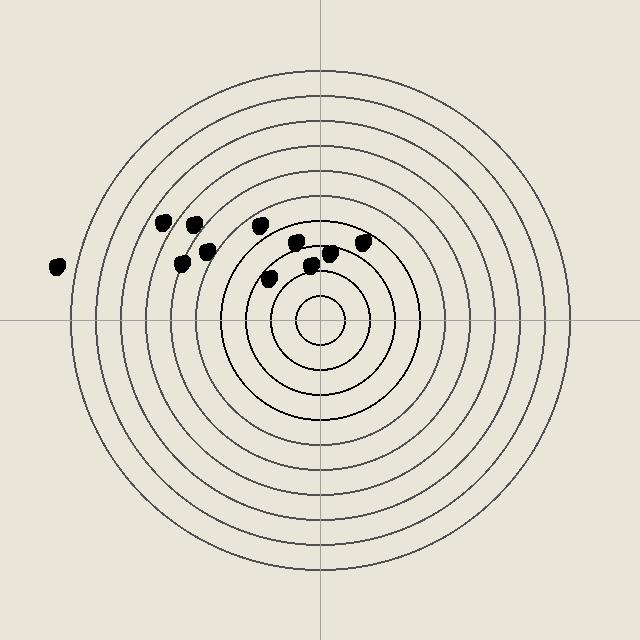horizontal_scatter: (300, 255, 320, 275), (352, 232, 372, 252), (319, 243, 339, 263), (249, 215, 269, 235), (258, 268, 278, 288), (183, 214, 203, 234), (171, 253, 191, 273), (196, 241, 216, 261), (46, 256, 66, 276), (285, 232, 305, 252), (152, 212, 172, 232)
